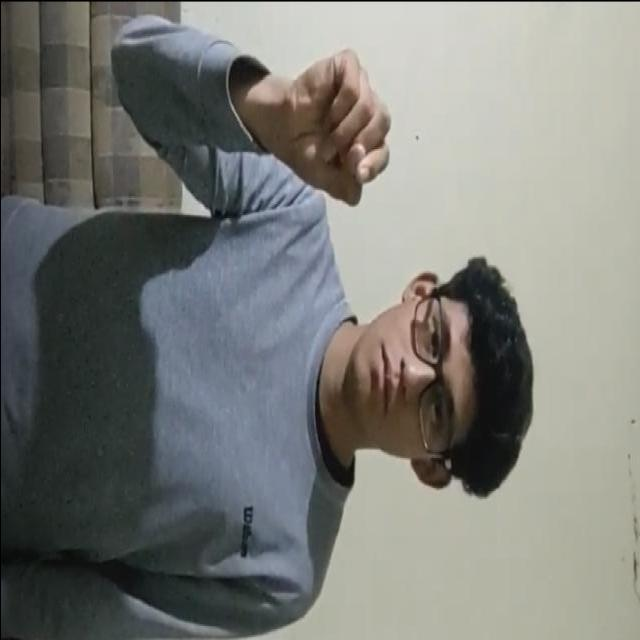T: (267, 44, 398, 223)
